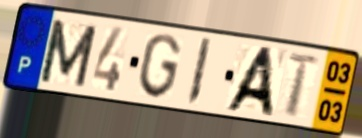4: (90, 25, 125, 96)
A: (221, 45, 277, 120)
G: (136, 32, 184, 102)
I: (184, 36, 214, 109)
M: (37, 17, 100, 91)
T: (284, 50, 321, 120)
